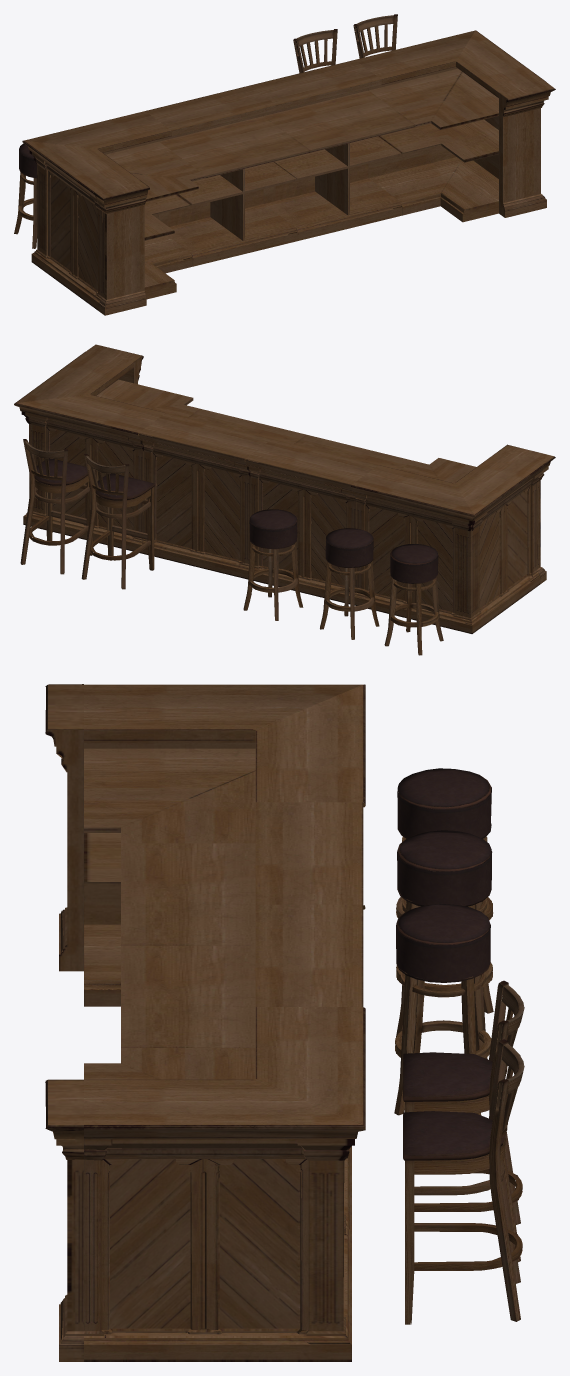
The model's file is kt_pub_counter.fbx.
The picture shows the model from 3 angles, top to bottom: view 1: azimuth 30°, elevation 25°; view 2: azimuth 150°, elevation 25°; view 3: azimuth 270°, elevation 25°; orthographic projection. The views are drawn at different scales.
Parts seen in each view (by area): view 1: kt_pub_counter_LOD0; view 2: kt_pub_counter_LOD0; view 3: kt_pub_counter_LOD0.
Boxes of the visible parts, left/top/right/bottom form: kt_pub_counter_LOD0: left=14, top=14, right=555, bottom=315; kt_pub_counter_LOD0: left=14, top=344, right=555, bottom=655; kt_pub_counter_LOD0: left=45, top=684, right=524, bottom=1361.
Size of what is drawn, in the model's own units: 4.31 by 1.1 by 1.97.
Materials: 1 (1 with a texture image).
